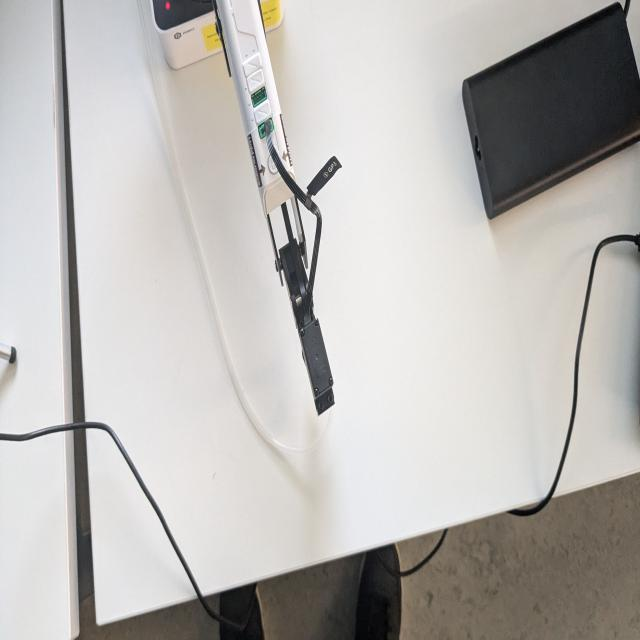Robot-end-effector-HF8z: (296, 315, 337, 420)
